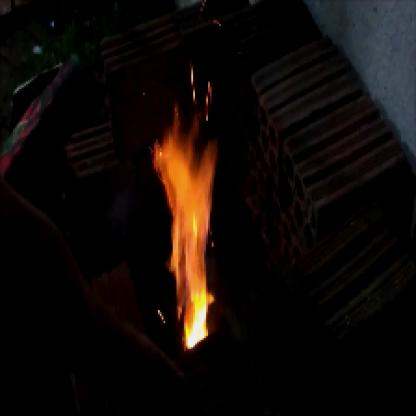Fire: (145, 69, 232, 353)
